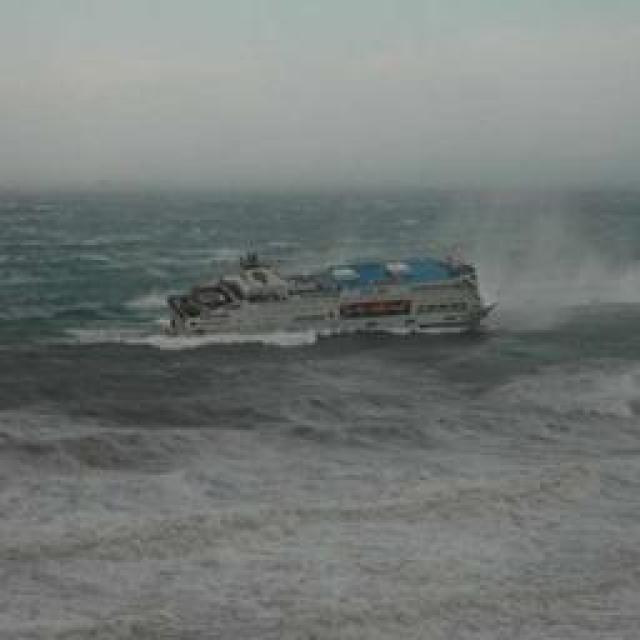CIV_Ship: (170, 252, 490, 342)
